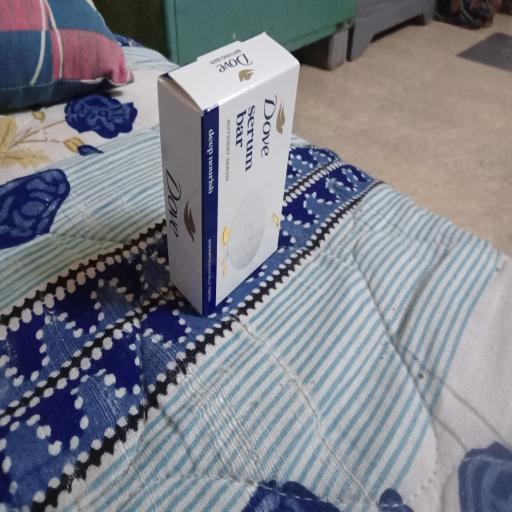Dove`1: (160, 27, 310, 319)
